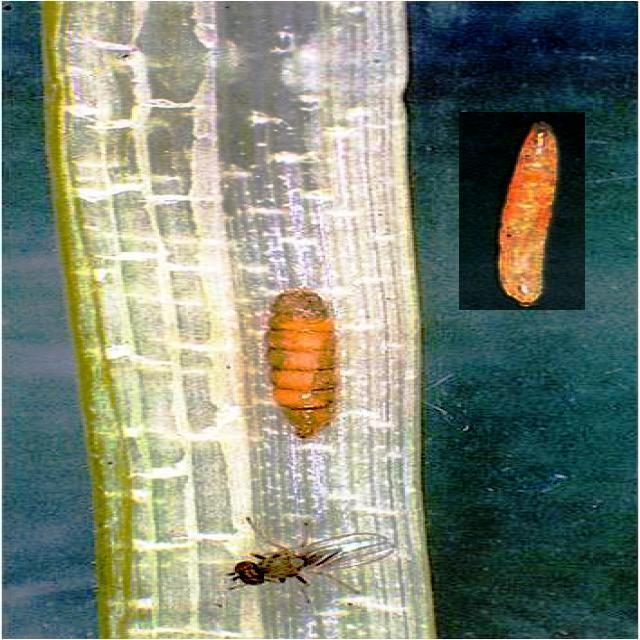whorl-maggot: (459, 112, 585, 310), (239, 281, 359, 451)
